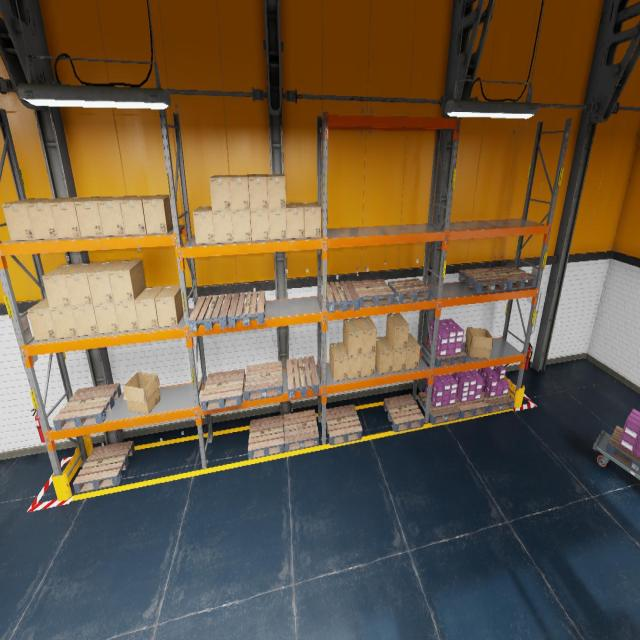box: (2, 198, 49, 241), (26, 198, 71, 240), (42, 263, 83, 308), (51, 197, 92, 238), (65, 262, 103, 306), (74, 196, 113, 237), (108, 260, 146, 302), (124, 372, 160, 414), (87, 261, 122, 304), (98, 195, 134, 236), (27, 297, 57, 341), (120, 195, 153, 235), (135, 286, 164, 330), (142, 195, 173, 233), (155, 285, 183, 327), (465, 327, 493, 359), (50, 306, 78, 338), (192, 206, 215, 244), (93, 302, 119, 334), (386, 313, 409, 349), (72, 305, 98, 336), (114, 300, 139, 332), (210, 175, 232, 211), (357, 316, 377, 354), (343, 318, 363, 356), (386, 336, 407, 372), (329, 342, 348, 381), (229, 175, 250, 210), (212, 210, 234, 243), (375, 336, 394, 374), (248, 174, 268, 209), (302, 202, 321, 238), (231, 210, 252, 242), (267, 174, 286, 209), (286, 202, 304, 238), (250, 209, 269, 241), (268, 208, 287, 240), (344, 346, 362, 379), (405, 333, 420, 370), (361, 352, 376, 377)
pallets: (72, 440, 134, 494), (53, 383, 121, 431), (200, 369, 246, 411), (188, 293, 232, 332), (606, 426, 640, 474), (248, 415, 284, 459), (244, 361, 283, 401), (283, 409, 319, 452), (384, 394, 424, 432), (326, 404, 362, 445), (286, 355, 319, 399), (418, 392, 461, 424), (228, 290, 265, 327), (487, 265, 537, 290), (458, 268, 508, 293), (422, 339, 466, 367), (352, 279, 394, 307), (388, 278, 431, 303), (327, 281, 359, 312), (481, 389, 514, 413), (456, 397, 488, 418)
